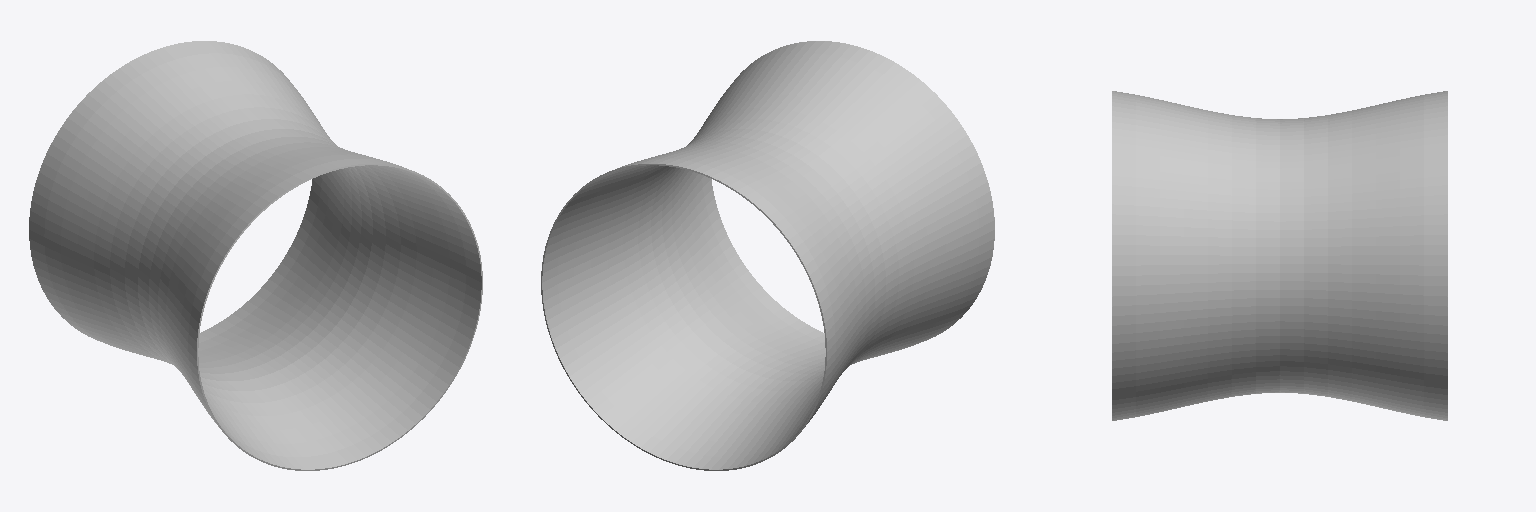
The model's file is msh_bonus_02.obj.
3 renders of one model, left to right at view 1: azimuth 30°, elevation 25°; view 2: azimuth 150°, elevation 25°; view 3: azimuth 270°, elevation 25°, orthographic.
Visible parts, largest first — view 1: msh_bonus_02; view 2: msh_bonus_02; view 3: msh_bonus_02.
Boxes of the visible parts, box(x1,y1,x2,y2) form: msh_bonus_02: box(29, 41, 482, 470); msh_bonus_02: box(541, 41, 994, 470); msh_bonus_02: box(1112, 91, 1447, 420).
Size of the model in its own units: 1.97 by 1.97 by 2.